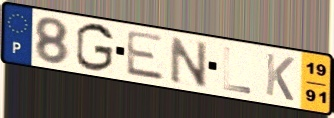8: (32, 16, 72, 66)
E: (125, 28, 167, 83)
G: (75, 21, 116, 73)
K: (263, 51, 296, 103)
L: (221, 44, 253, 96)
N: (168, 34, 209, 89)
